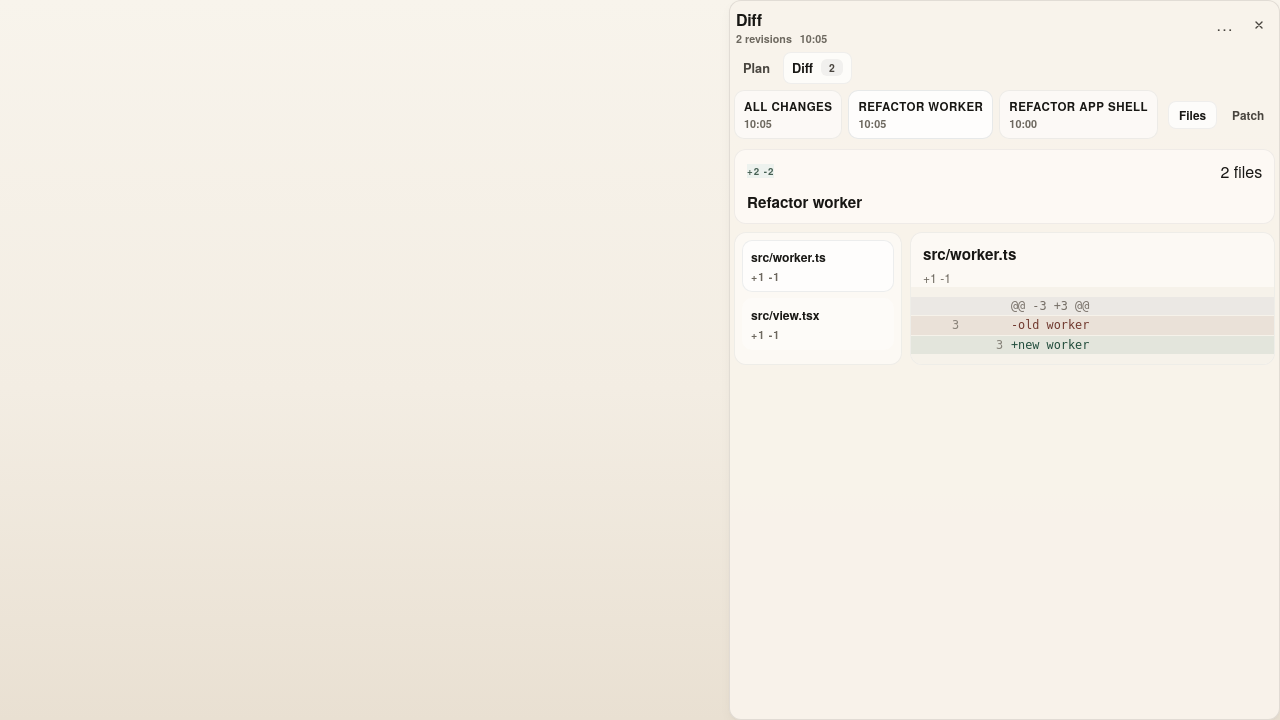
it: RightPane › renders a real diff browser with aggregate and per-revision scopes
The image size is (1280, 720).
Click the tab "All changes 10:05" at (788, 114), box [734, 90, 842, 139]
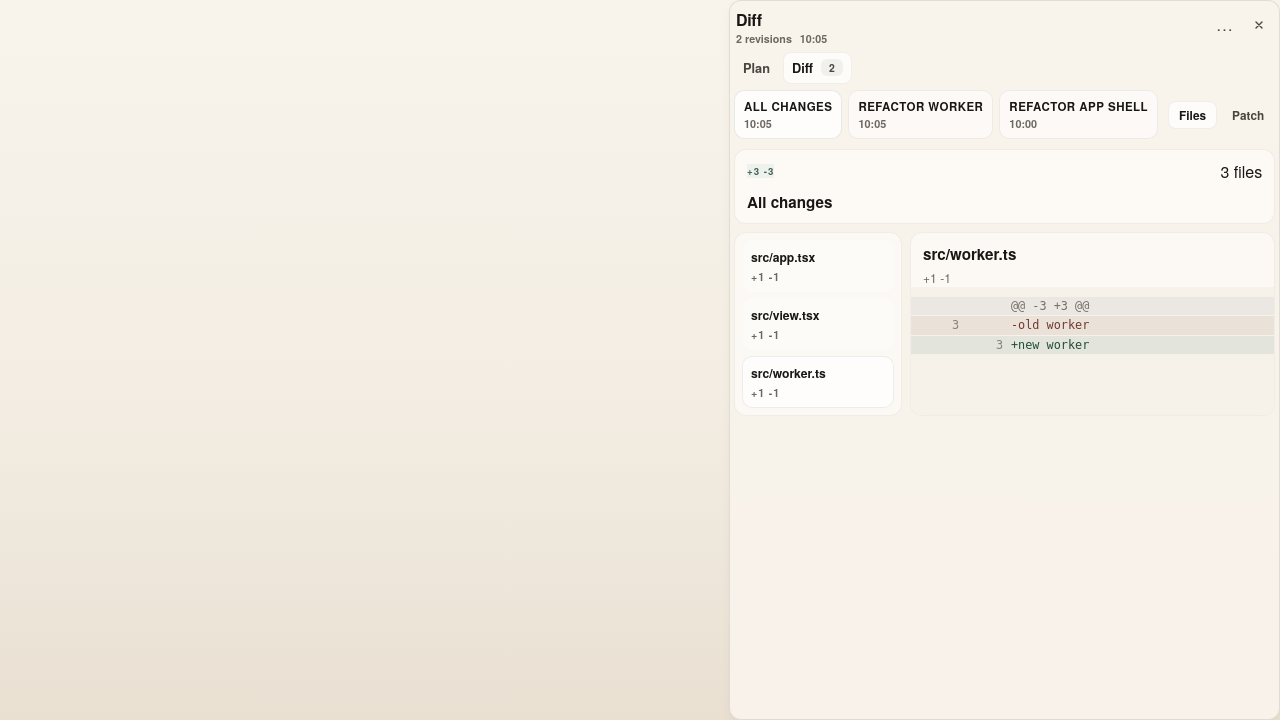
Expected: the text "All changes" is shown, [744, 98, 832, 115]
Now the text "src/app.tsx" is shown, box [751, 248, 815, 266]
